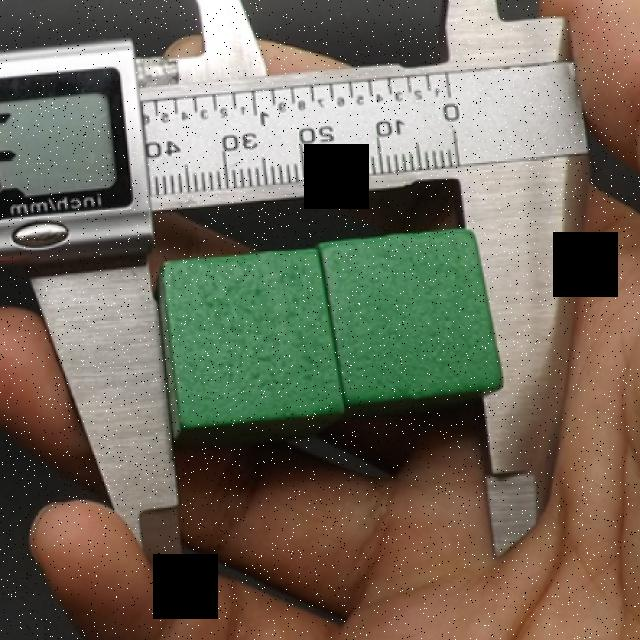green cube: (152, 248, 341, 454), (318, 228, 500, 431)
